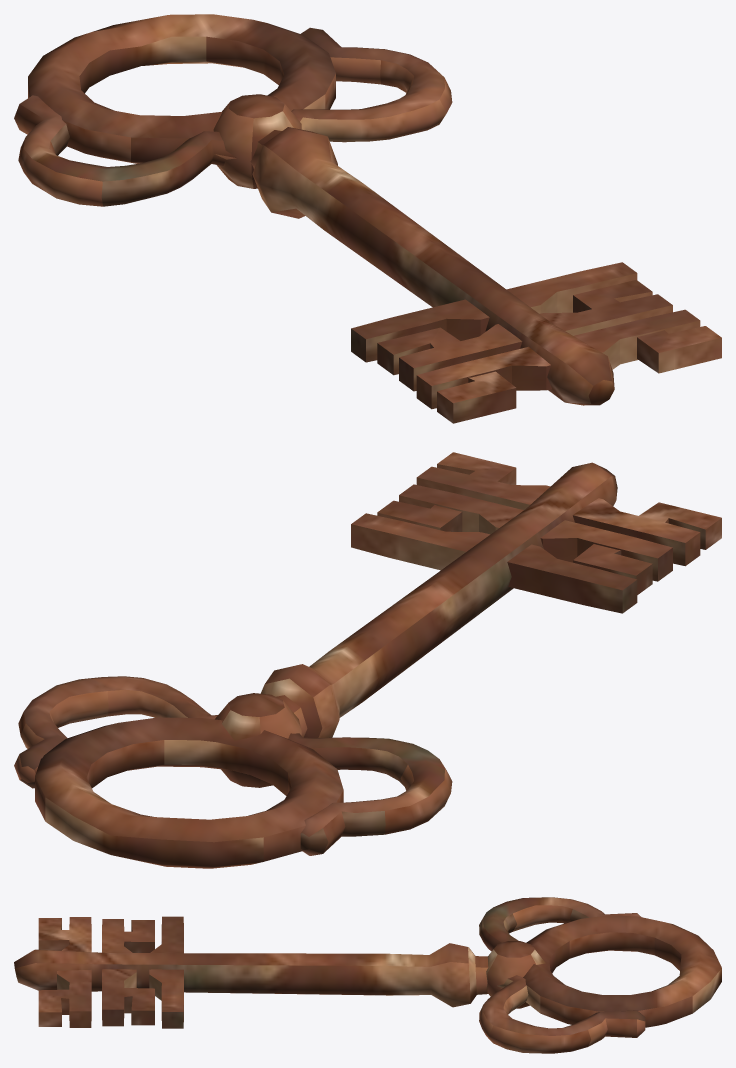
Rendered from tr_key_copper.glb.
3 views of the same model, one above another, from view 1: azimuth 30°, elevation 25°; view 2: azimuth 150°, elevation 25°; view 3: azimuth 270°, elevation 25° (orthographic). The views are drawn at different scales.
Visible parts, largest first — view 1: model; view 2: model; view 3: model.
Part boxes in pixels (left/top/right/bottom): model: left=14, top=14, right=721, bottom=423; model: left=14, top=452, right=721, bottom=868; model: left=14, top=897, right=721, bottom=1053.
Bounding box in the file's own units: 0.0871 × 0.0184 × 0.1834.
1 material, 1 textured.
